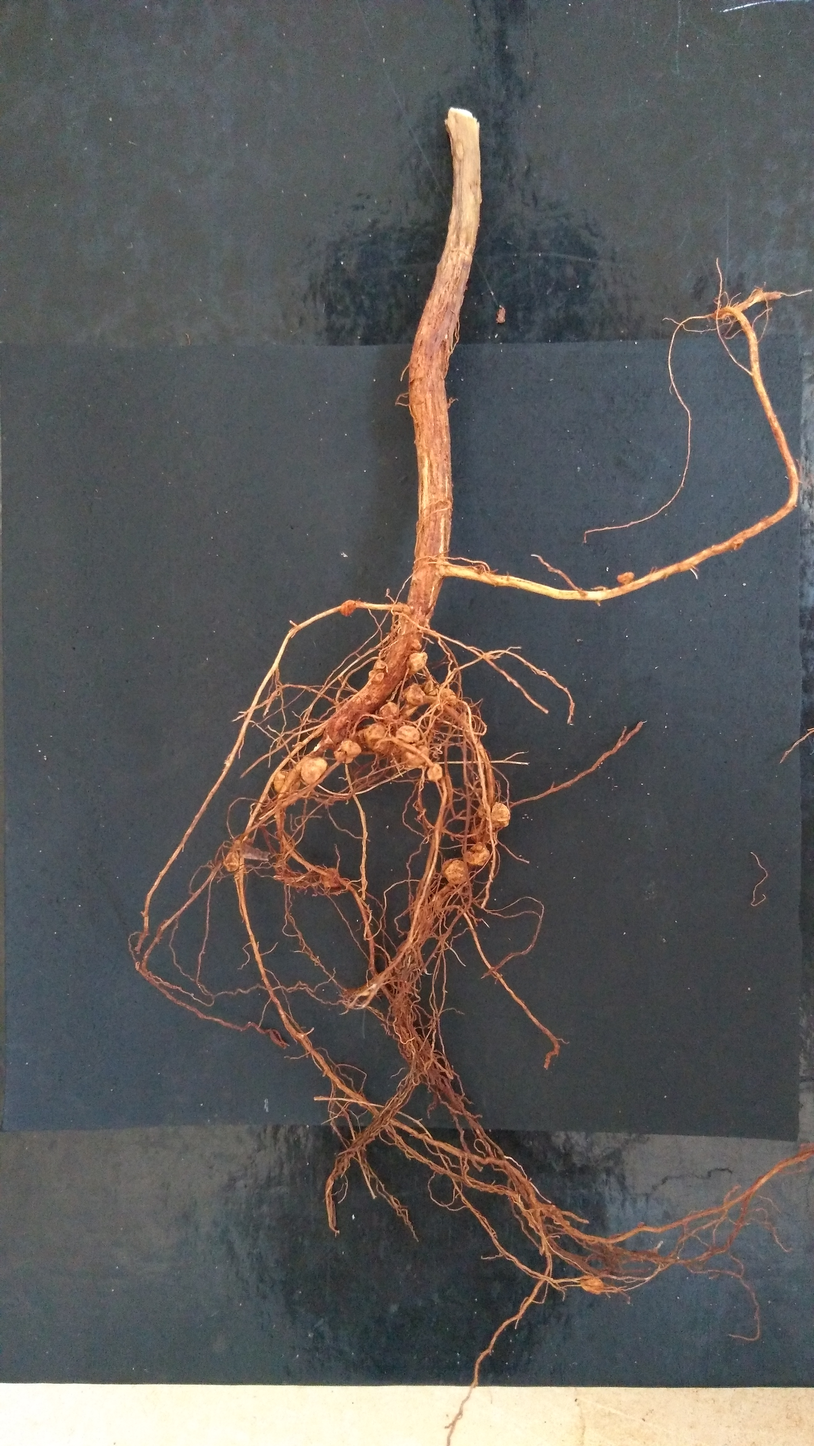nodule: (359, 724, 388, 752), (477, 803, 510, 827), (301, 756, 327, 784), (442, 859, 468, 884), (334, 740, 361, 764), (395, 725, 419, 751), (411, 903, 434, 930), (273, 770, 301, 792), (465, 842, 490, 866), (402, 745, 429, 767), (282, 870, 310, 889), (402, 683, 425, 706), (378, 701, 401, 724), (224, 840, 240, 872), (471, 823, 496, 843), (406, 652, 427, 675), (580, 1275, 604, 1295), (319, 867, 341, 887), (421, 679, 440, 696), (441, 688, 457, 706), (341, 600, 356, 617), (428, 763, 442, 781), (617, 572, 634, 584), (368, 670, 385, 682), (411, 639, 422, 650), (375, 660, 386, 669)
